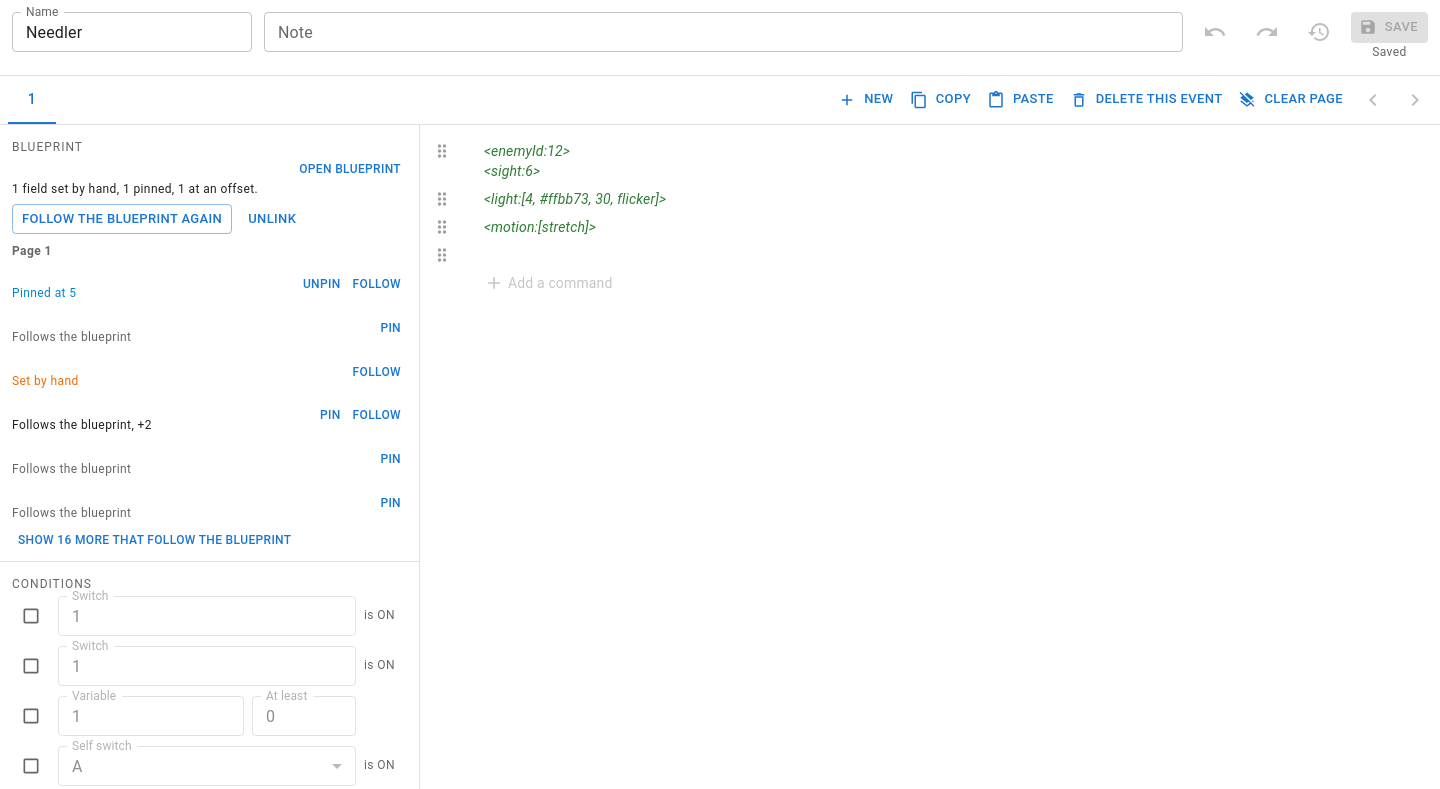
CopyPanel › says so when the blueprint's window was blocked
The width and height of the screenshot is (1440, 789).
Click the button "Open blueprint". click: (350, 169)
box: 293,159 -> 407,180
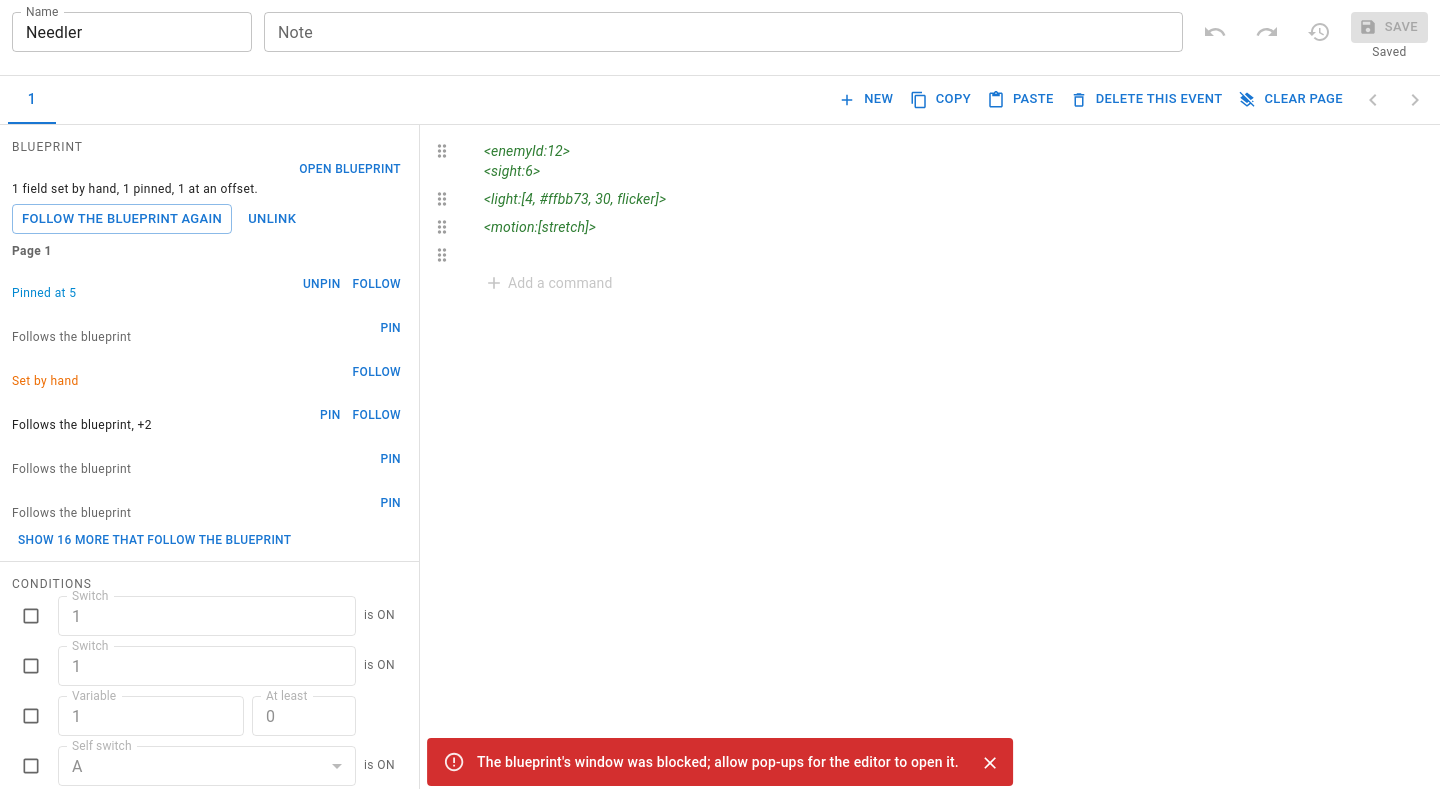
Expected: the message reads "The blueprint's window was blocked; allow pop-ups for the editor to open it.", 477,754 -> 959,770
